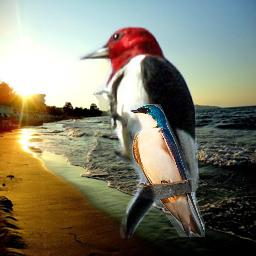Swallow: (130, 104, 205, 237)
Woodpecker: (75, 25, 202, 238)
